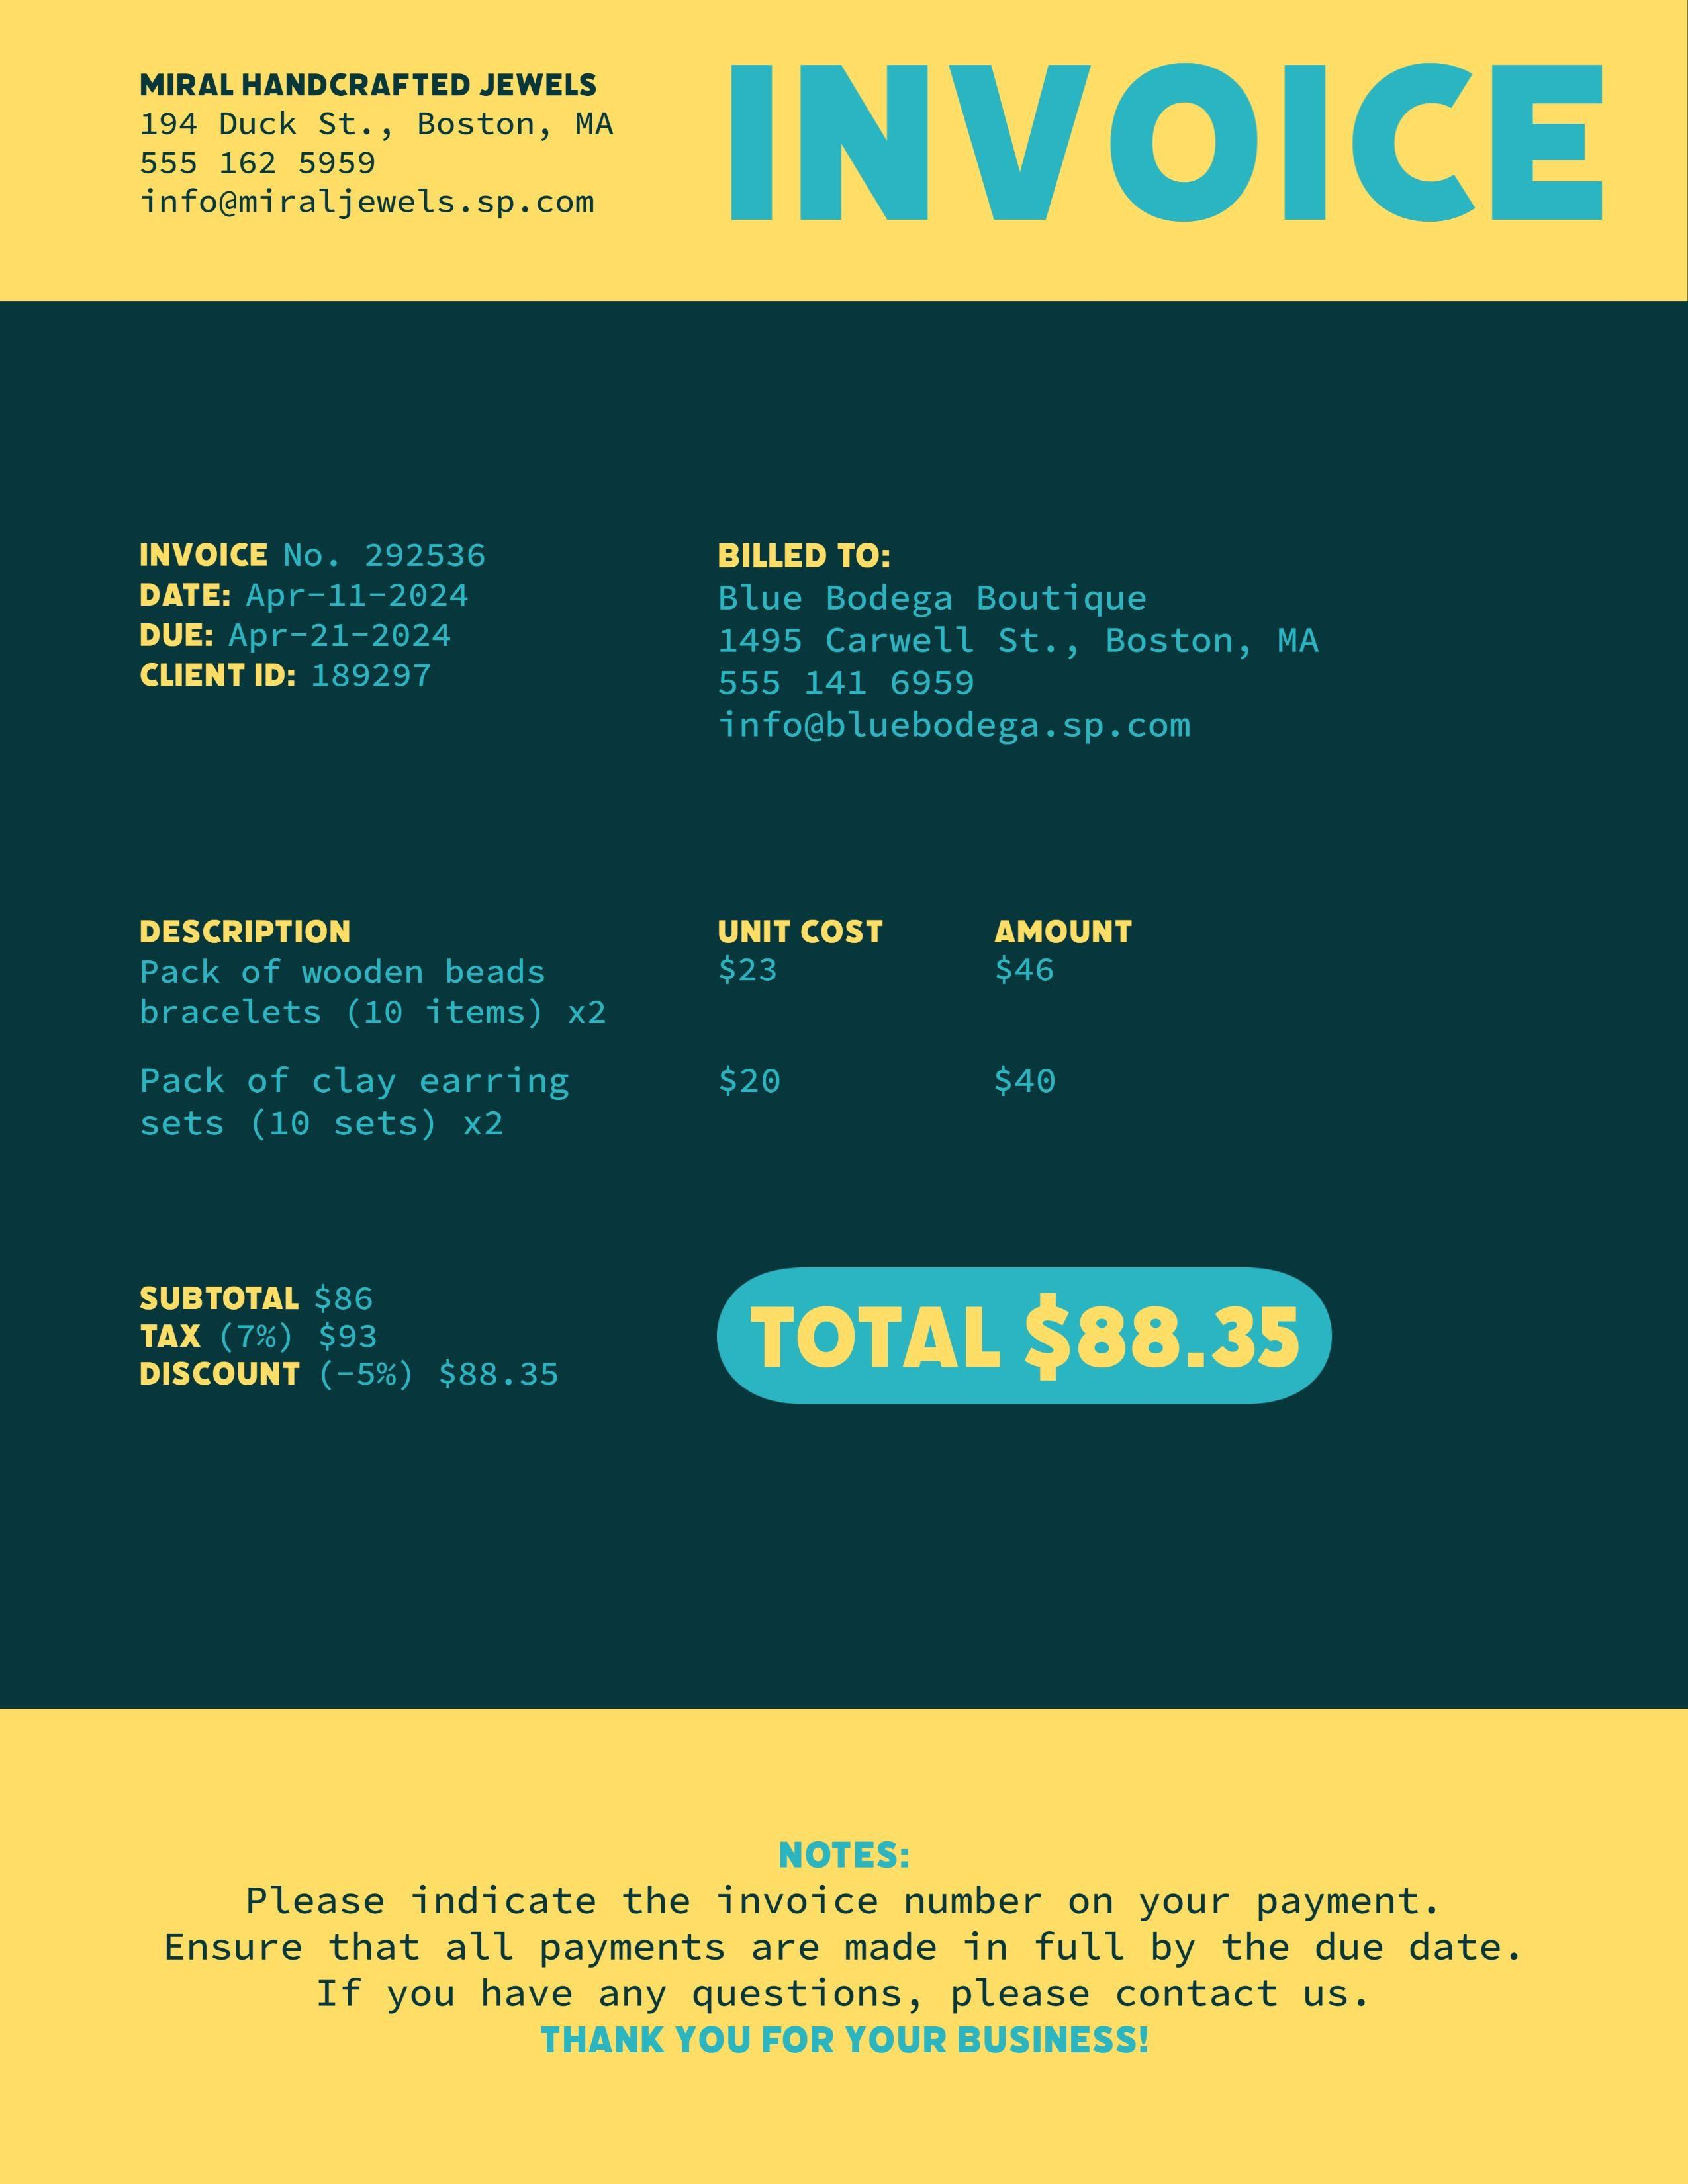ROI: (129, 908, 1138, 1149), (137, 1264, 1332, 1415), (706, 519, 1337, 757), (126, 58, 619, 248), (119, 530, 507, 714)
